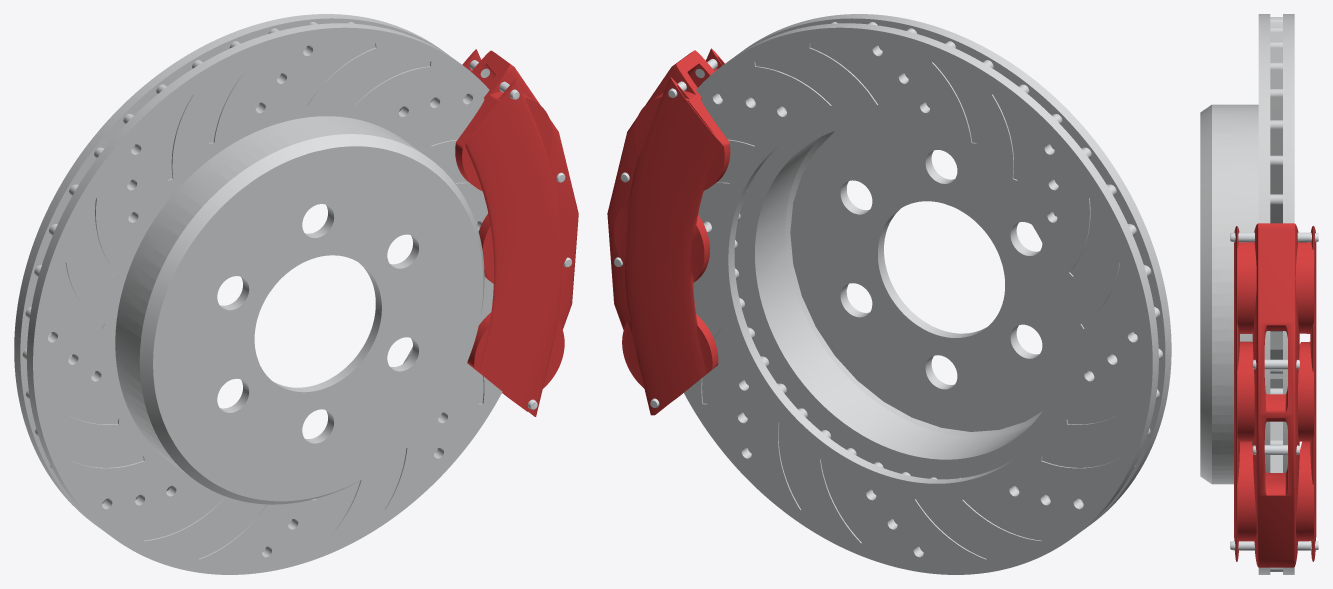
The model's file is brake.glb.
3 views of the same model, side by side, from view 1: azimuth 30°, elevation 25°; view 2: azimuth 150°, elevation 25°; view 3: azimuth 270°, elevation 25° (orthographic). The views are drawn at different scales.
Parts seen in each view (by area): view 1: rotor, caliper; view 2: rotor, caliper; view 3: rotor, caliper, pads.
Part boxes in pixels (left/top/right/bottom): rotor: left=14, top=14, right=502, bottom=574; caliper: left=455, top=49, right=578, bottom=416; rotor: left=684, top=14, right=1171, bottom=574; caliper: left=607, top=48, right=730, bottom=415; rotor: left=1200, top=14, right=1294, bottom=574; caliper: left=1234, top=223, right=1316, bottom=567; pads: left=1230, top=232, right=1318, bottom=550.
Bounding box in the file's own units: 81.66 × 76.2 × 16.09.
